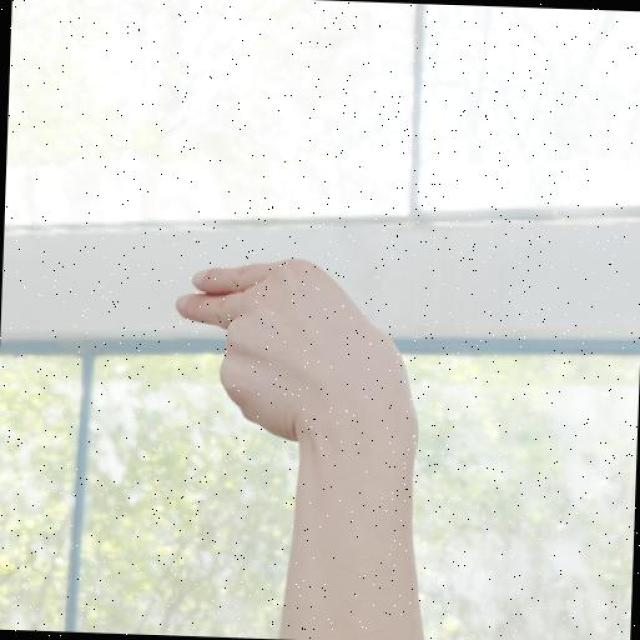H: (159, 240, 439, 476)
